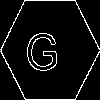G: (25, 25, 59, 71)
